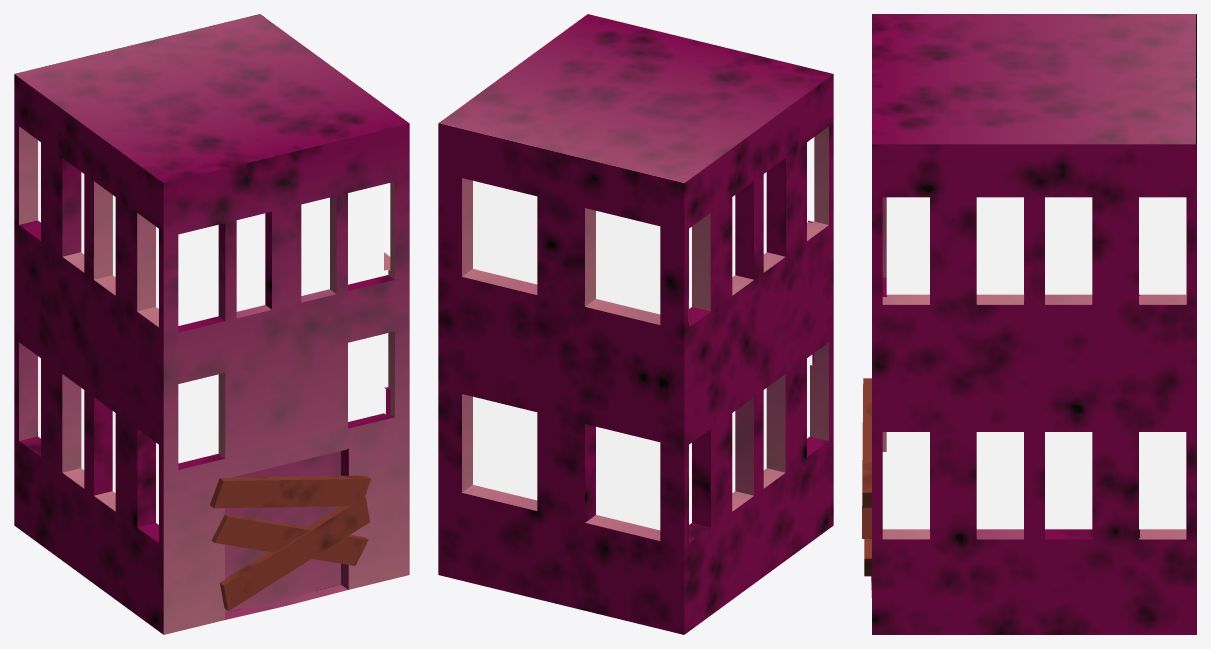
The model's file is building_1.glb.
3 renders of one model, left to right at view 1: azimuth 30°, elevation 25°; view 2: azimuth 150°, elevation 25°; view 3: azimuth 270°, elevation 25°, orthographic. The views are drawn at different scales.
Visible parts, largest first — view 1: Cube; view 2: Cube; view 3: Cube.
Part boxes in pixels (x1,y1,x2,y2): Cube: (14, 14, 409, 634); Cube: (438, 14, 833, 634); Cube: (862, 14, 1196, 634).
Size of the model in its own units: 6.15 by 10.79 by 6.67.
Materials: 2 (1 with a texture image).
